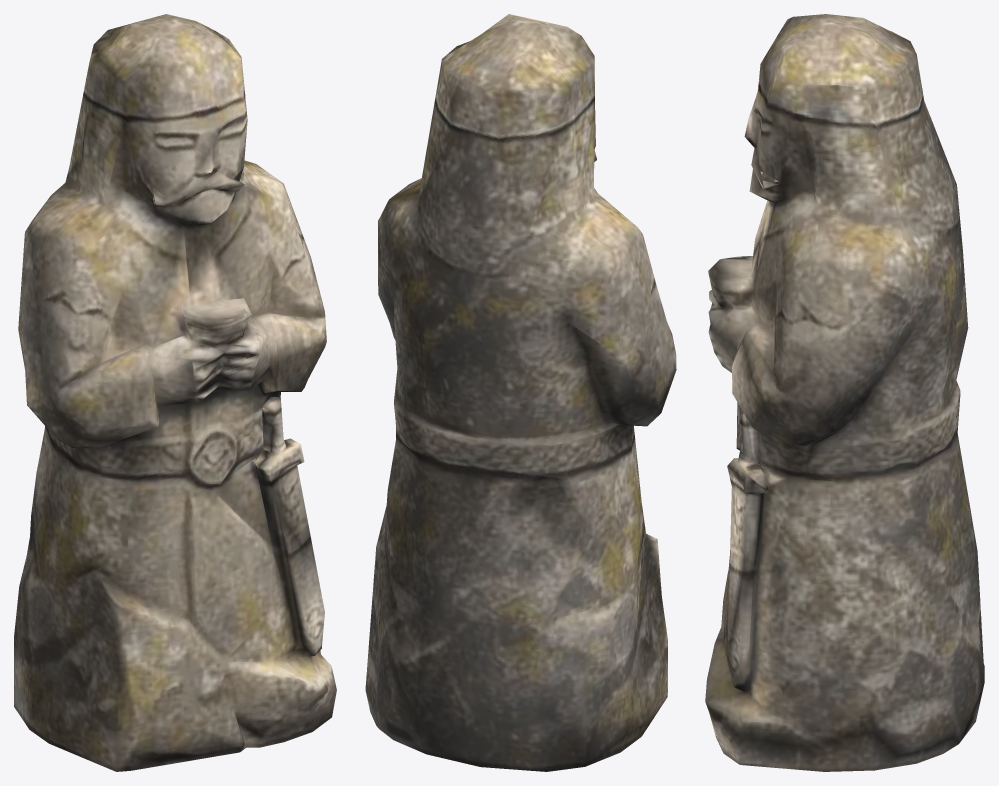
Rendered from balbal.phone.glb.
3 renders of one model, left to right at view 1: azimuth 30°, elevation 25°; view 2: azimuth 150°, elevation 25°; view 3: azimuth 270°, elevation 25°, orthographic.
Parts seen in each view (by area): view 1: balbal.raw; view 2: balbal.raw; view 3: balbal.raw.
Boxes of the visible parts, <box> form: balbal.raw: <box>14,14,336,771</box>; balbal.raw: <box>365,14,676,771</box>; balbal.raw: <box>705,14,984,771</box>.
Size of the model in its own units: 0.6778 by 1.6 by 0.586.
1 material, 1 textured.
